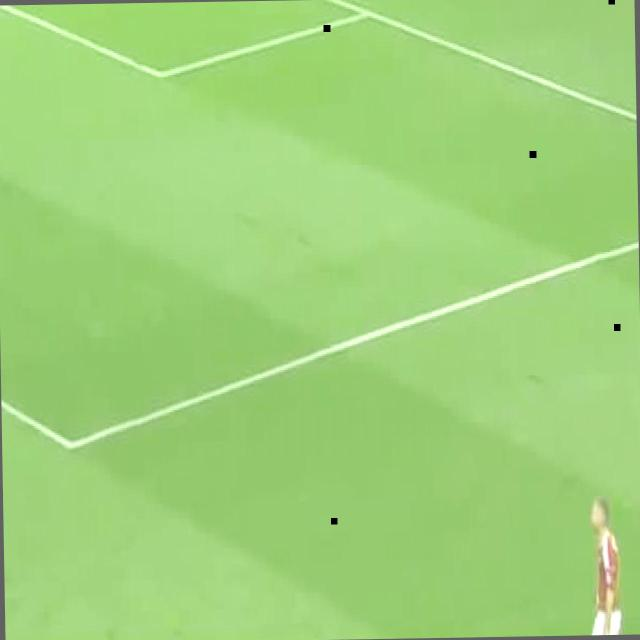player-white: (587, 496, 623, 635)
